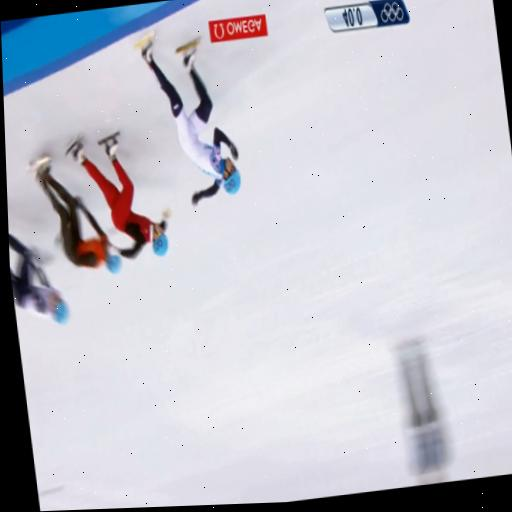Skater: (136, 36, 240, 204), (66, 133, 170, 258), (30, 155, 121, 273), (9, 232, 69, 323)
